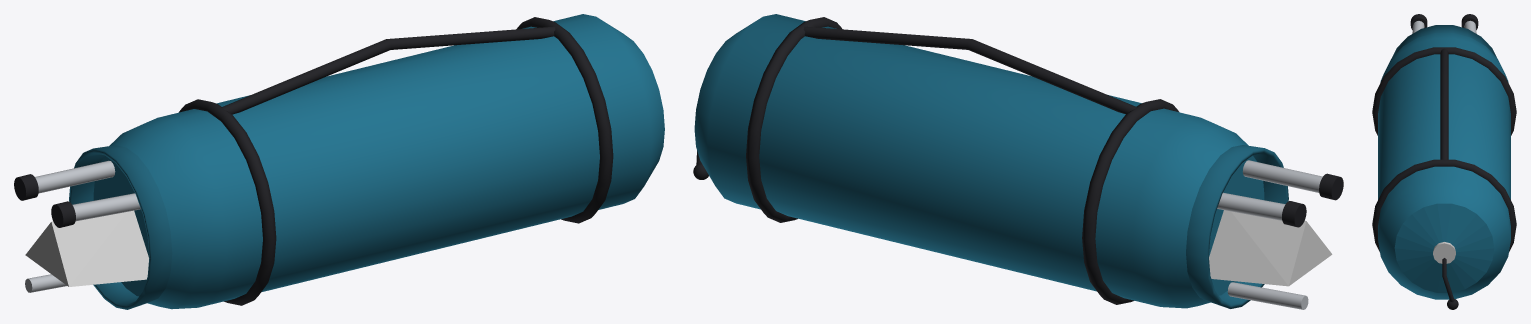
Rendered from camp_chair.fbx.
3 views of the same model, side by side, from view 1: azimuth 30°, elevation 25°; view 2: azimuth 150°, elevation 25°; view 3: azimuth 270°, elevation 25° (orthographic). The views are drawn at different scales.
Parts seen in each view (by area): view 1: Folding Chair; view 2: Folding Chair; view 3: Folding Chair.
Boxes of the visible parts, x1,y1,x2,y2 form: Folding Chair: (14,14,664,309); Folding Chair: (693,14,1343,309); Folding Chair: (1372,14,1516,309).
Size of the model in its own units: 2.95 by 0.9856 by 0.87.
